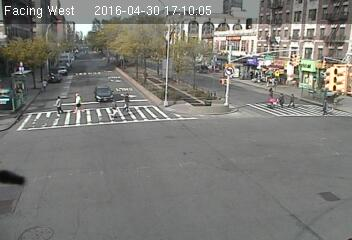neg: (186, 177, 208, 207), (29, 151, 49, 178), (94, 166, 111, 190), (12, 88, 29, 111), (221, 59, 238, 81), (207, 94, 223, 116), (264, 181, 280, 202), (242, 12, 258, 33), (211, 142, 227, 163), (148, 45, 163, 66), (269, 32, 283, 51), (325, 184, 339, 203), (14, 58, 27, 76), (191, 10, 204, 27), (171, 3, 183, 19), (316, 14, 328, 29), (33, 39, 43, 53), (48, 4, 58, 17), (97, 4, 107, 17), (142, 2, 150, 13)
pos: (69, 92, 86, 114), (121, 91, 137, 112), (106, 98, 121, 118), (52, 95, 66, 115), (320, 97, 334, 115), (277, 92, 289, 107), (40, 78, 51, 93), (288, 92, 299, 107), (265, 87, 276, 101)
